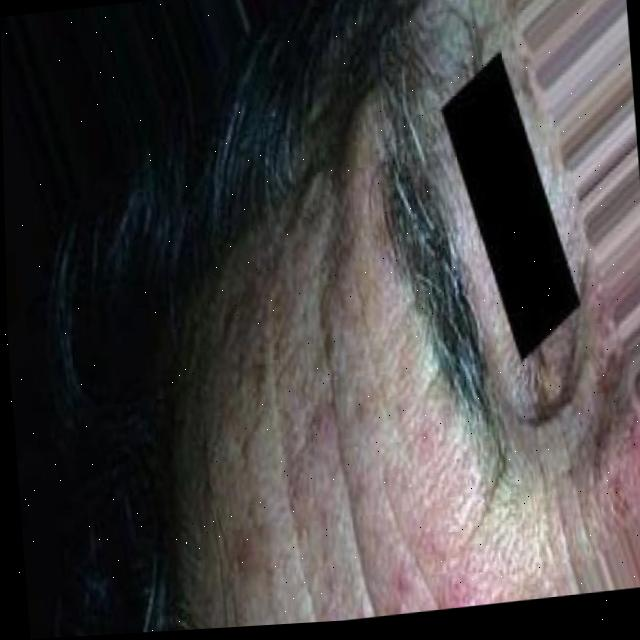Rosacea: (281, 302, 470, 624)
